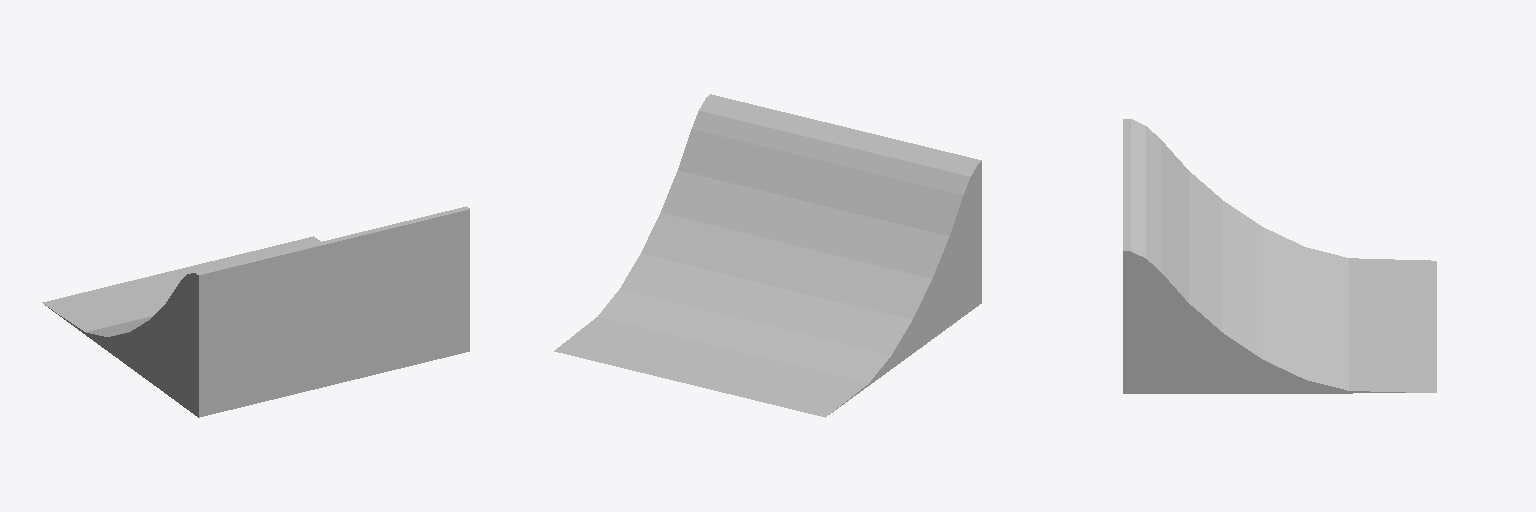
File: Quater_LRG_Drop_Full.obj
3 renders of one model, left to right at view 1: azimuth 30°, elevation 25°; view 2: azimuth 150°, elevation 25°; view 3: azimuth 270°, elevation 25°, orthographic.
Visible parts, largest first — view 1: Quater_LRG_Drop_Full; view 2: Quater_LRG_Drop_Full; view 3: Quater_LRG_Drop_Full.
Boxes of the visible parts, <box> form: Quater_LRG_Drop_Full: <box>42,206,469,417</box>; Quater_LRG_Drop_Full: <box>554,94,981,417</box>; Quater_LRG_Drop_Full: <box>1123,119,1436,393</box>.
Bounding box in the file's own units: 20 × 10 × 20.